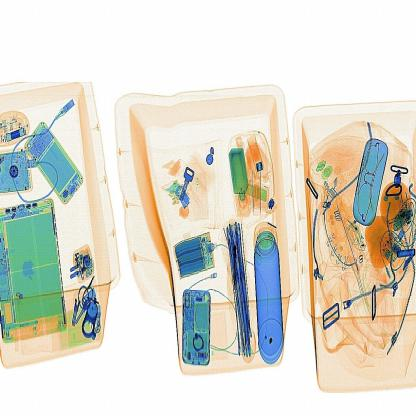knife: (225, 229, 248, 292)
